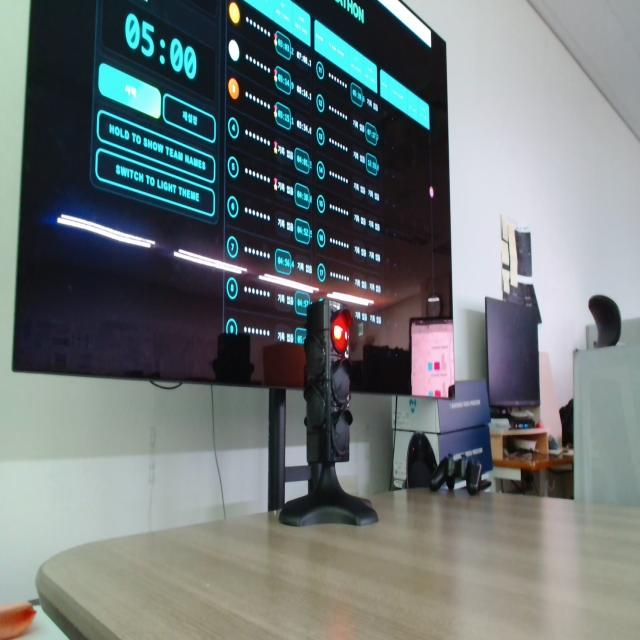red_light: (332, 310, 351, 353), (334, 325, 343, 340)
